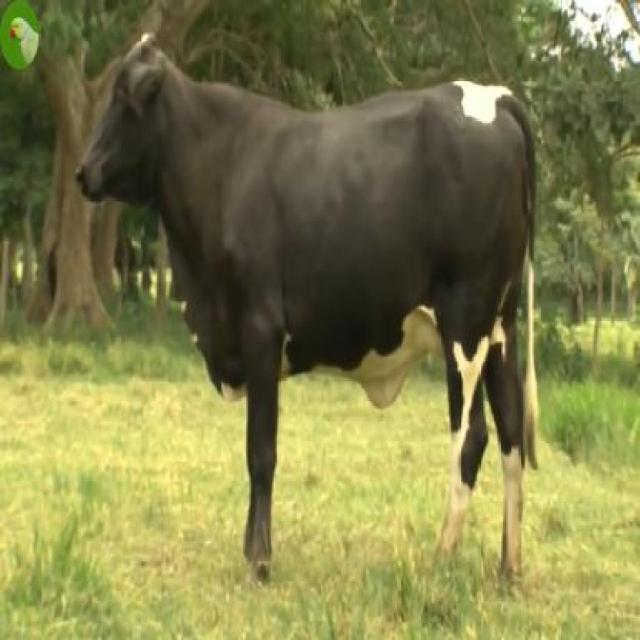Cow: (77, 32, 537, 591)
